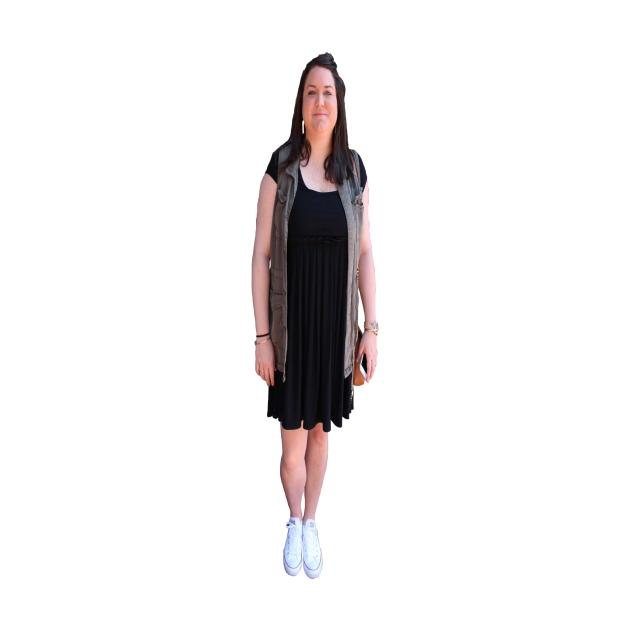jovem: (245, 43, 386, 576)
